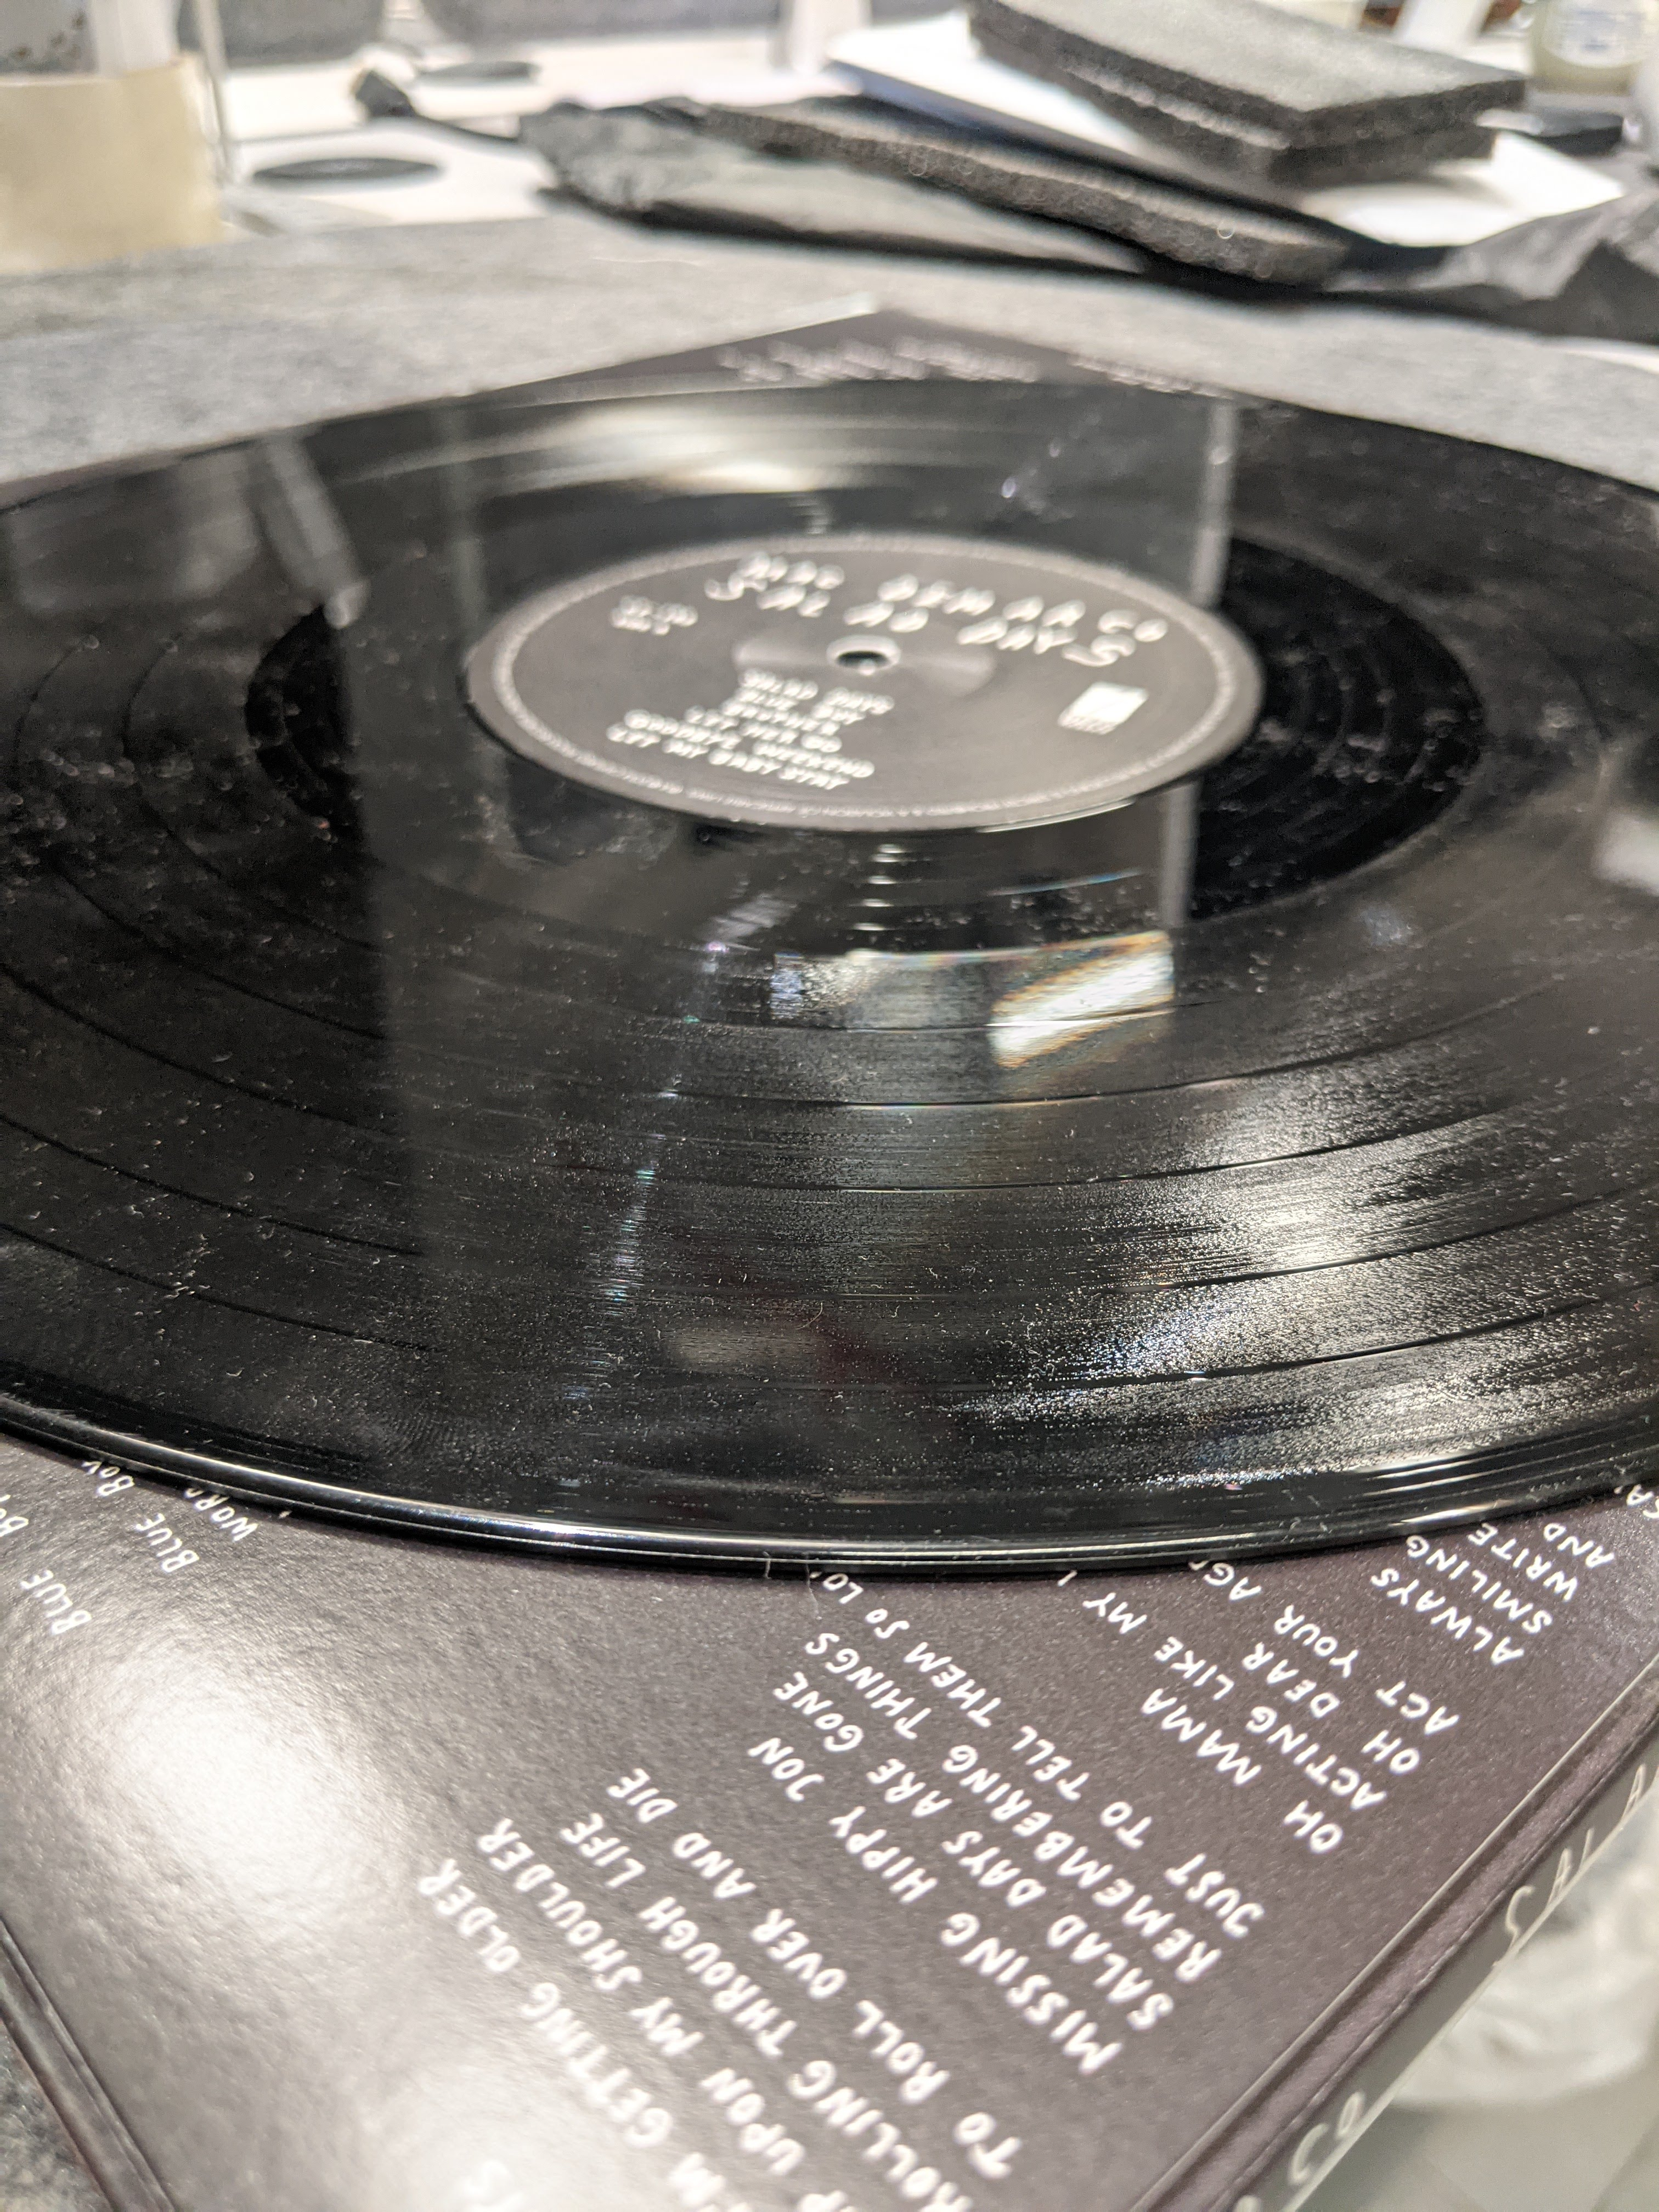song_edge: (619, 1052, 1042, 1162), (64, 1101, 223, 1233), (117, 1240, 298, 1352), (218, 1029, 324, 1141), (279, 881, 399, 968)
